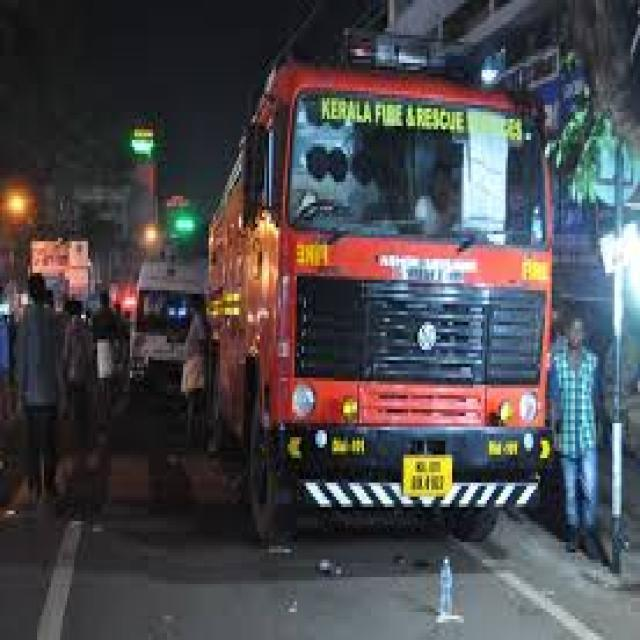Ambulance: (202, 32, 559, 546), (0, 367, 638, 637), (545, 311, 610, 560), (125, 252, 209, 396)
